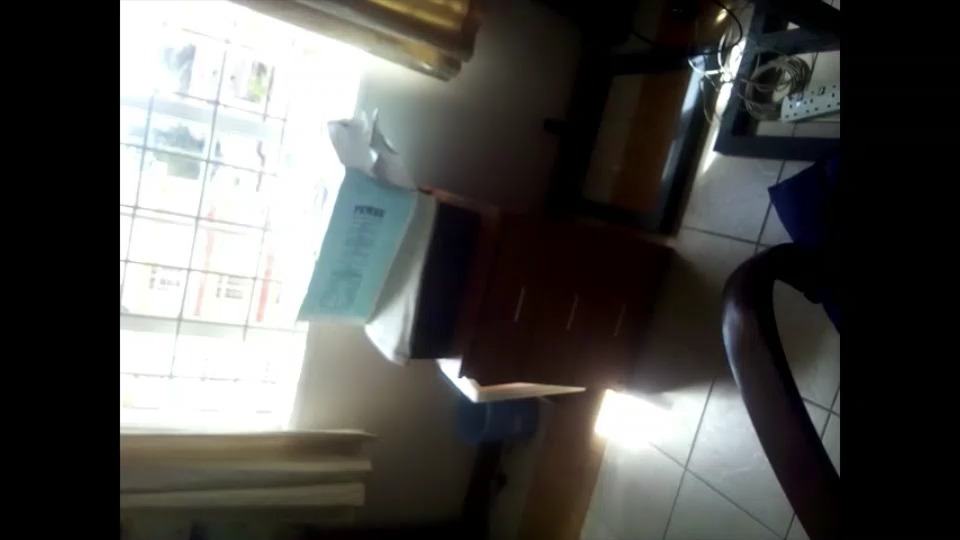wheat_flour_blue_label: (266, 108, 415, 321)
